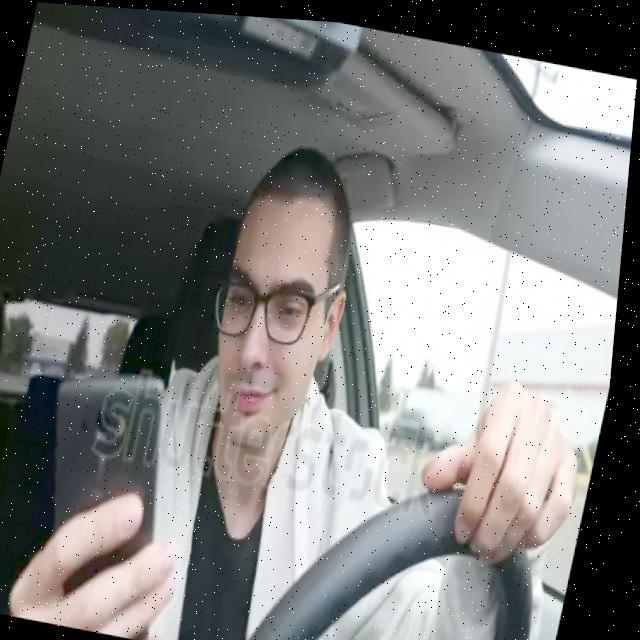PhoneCall: (18, 359, 208, 640)
